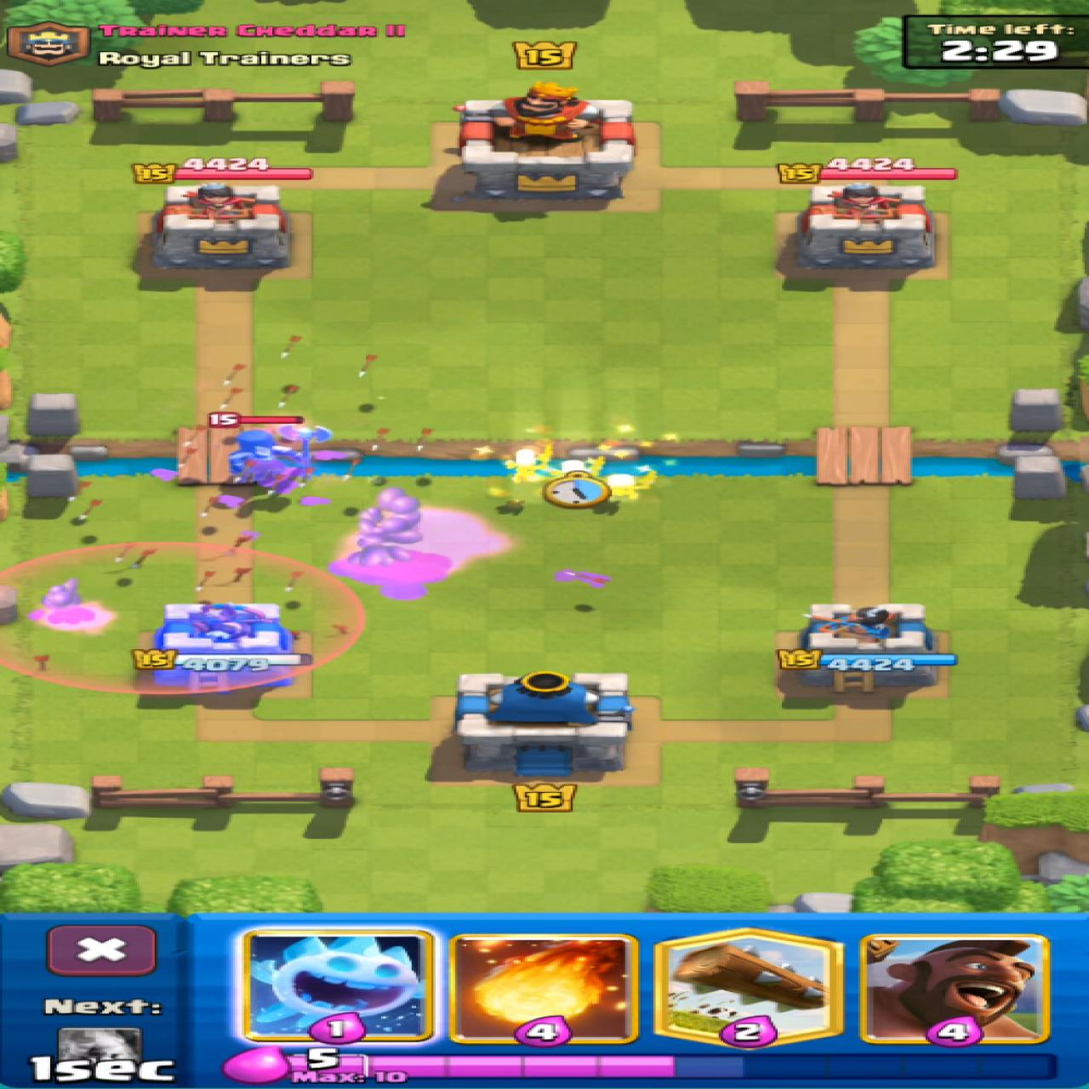Enemy-KingTower: (457, 82, 634, 199)
Enemy-NightWitch: (209, 413, 331, 493)
Enemy-PrincessTower: (786, 184, 932, 281), (150, 184, 287, 273)
